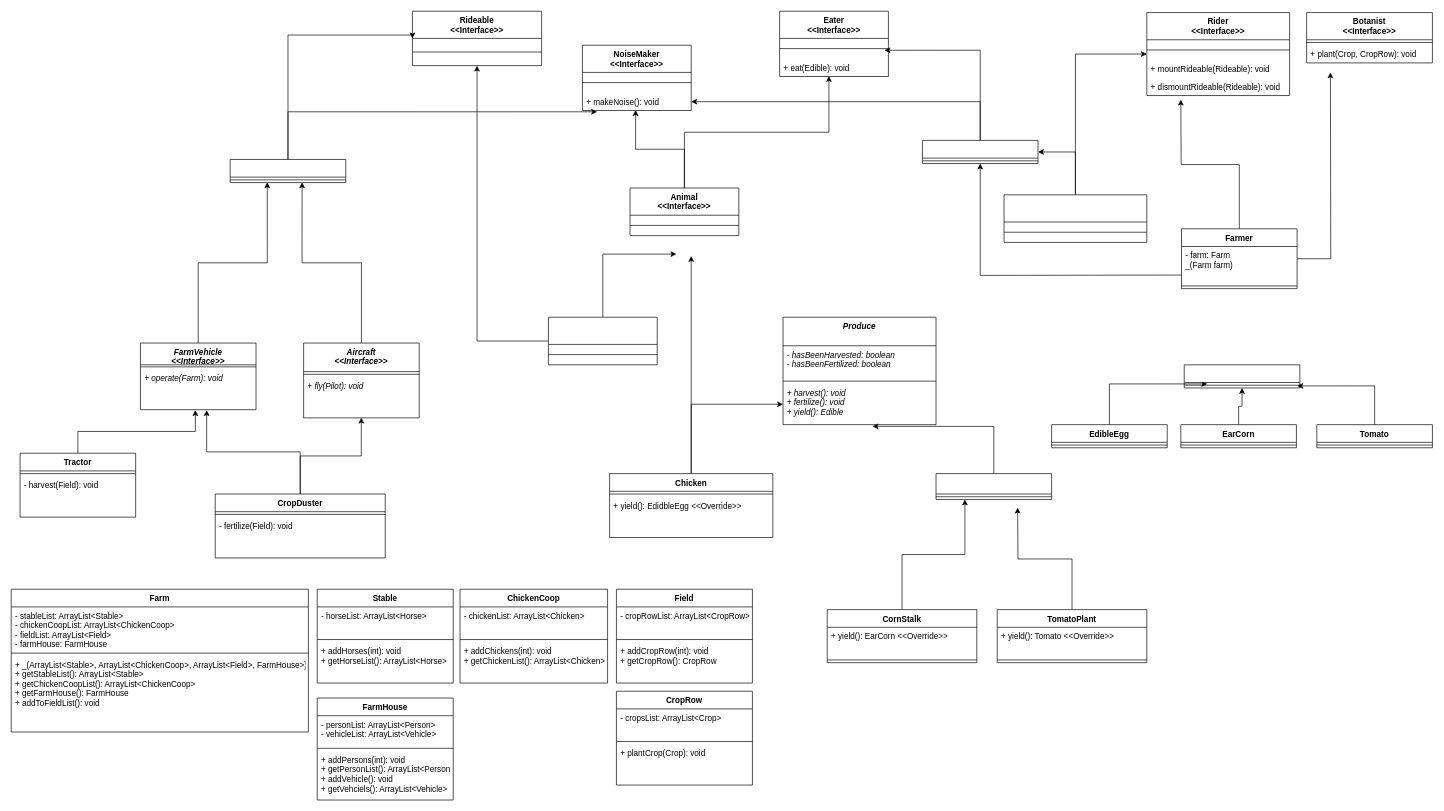
Image size: 1444x811. Some labels were removed from this diagram. Each missing label, with the centre of its shape:
Crop: pixel 993 486
Edible: pixel 1242 376
Horse: pixel 602 341
Person: pixel 980 152
Pilot: pixel 1075 218
Vehicle: pixel 288 171
